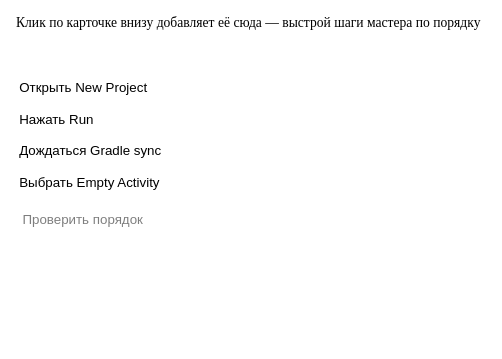
Test case: правильный порядок: Выполнено, объяснение почему, store и XP
Click the button "Открыть New Project" at coordinates (83, 87), box [8, 74, 158, 100]
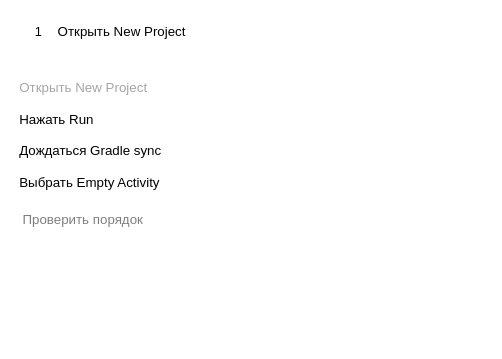
Click the button "Выбрать Empty Activity" at coordinates (89, 183), box [8, 170, 171, 196]
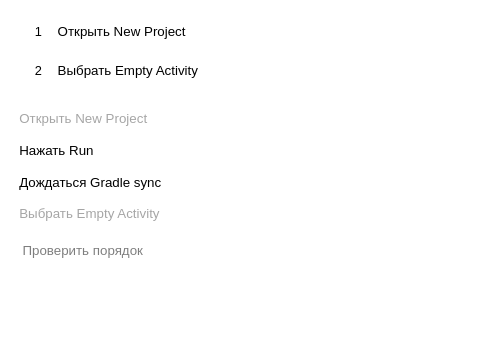
Click the button "Дождаться Gradle sync" at coordinates (90, 182), box [8, 169, 172, 195]
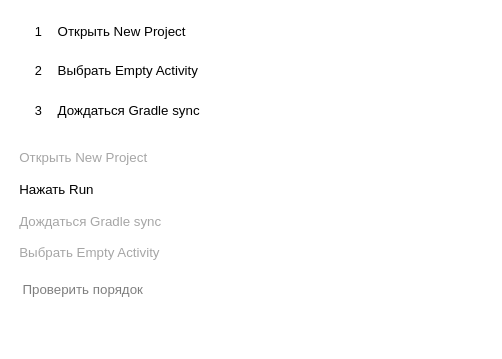
Click the button "Нажать Run" at coordinates (56, 189), box [8, 176, 105, 202]
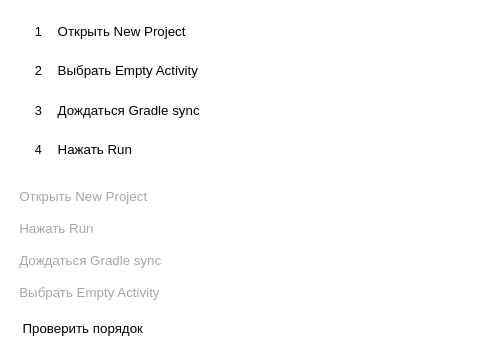
Click the button "Проверить порядок" at coordinates (83, 329), box [8, 315, 157, 343]
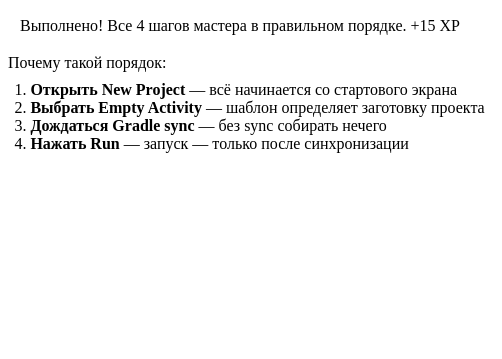
expect the text "Выполнено! Все 4 шагов мастера в правильном порядке. +15 XP" is shown: met, box [20, 17, 460, 34]
expect the text "Почему такой порядок:" is shown: met, box [8, 54, 166, 71]
expect the list item "Открыть New Project — всё начинается со стартового экрана" is shown: met, box [30, 81, 457, 98]
